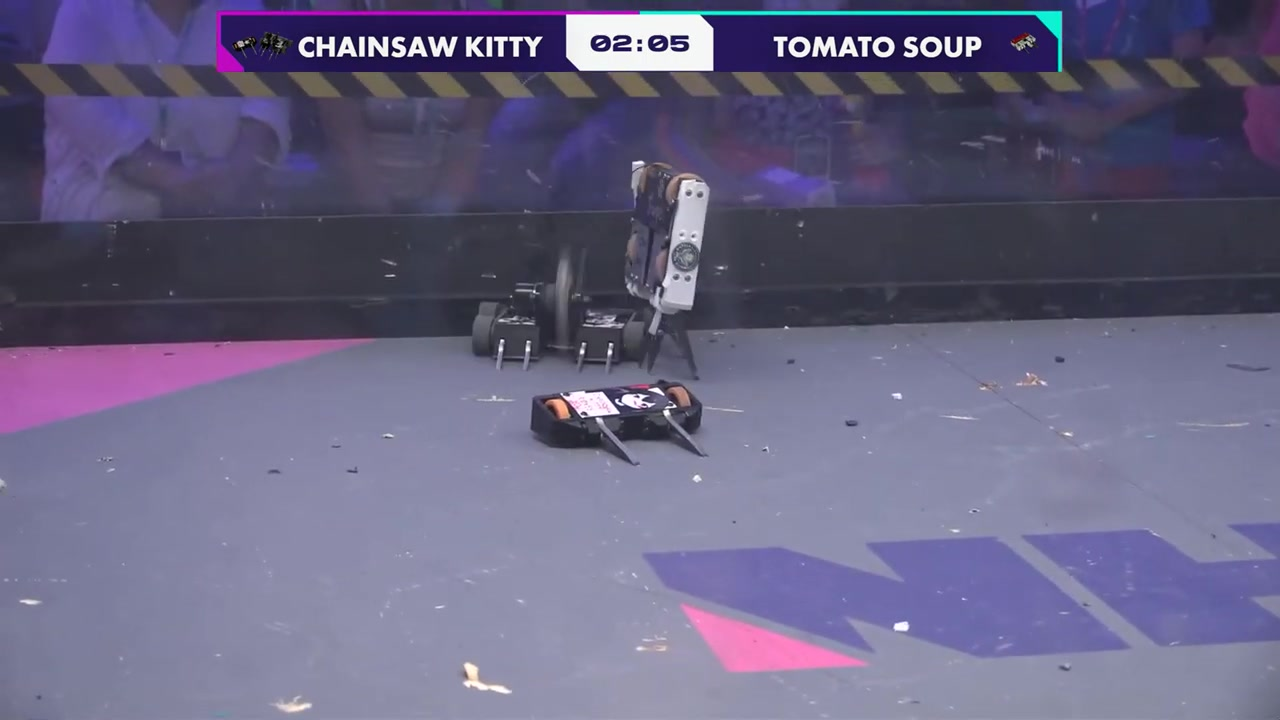belt: (1224, 359, 1273, 376)
combatbot: (469, 246, 663, 376), (623, 156, 714, 382)
minibot: (529, 380, 708, 468)
